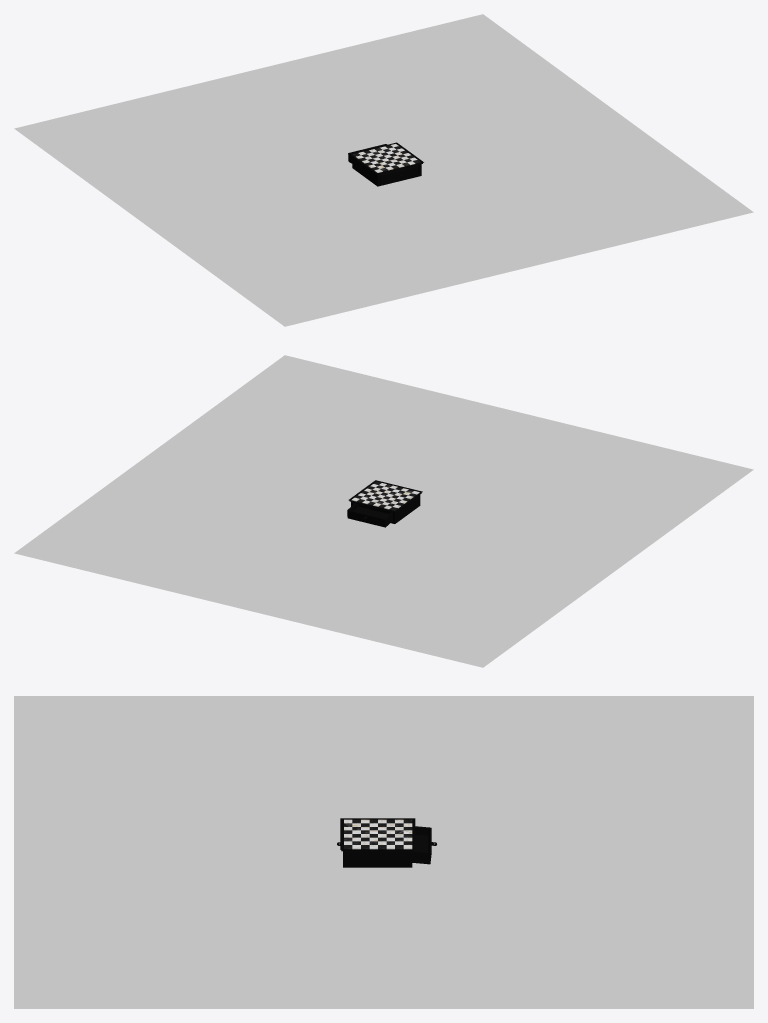
Rendered from board.gltf.
3 views of the same model, one above another, from view 1: azimuth 30°, elevation 25°; view 2: azimuth 150°, elevation 25°; view 3: azimuth 270°, elevation 25° (orthographic). The views are drawn at different scales.
Size of the model in its own units: 137 by 3.82 by 137.
Materials: 6 (2 with a texture image).
